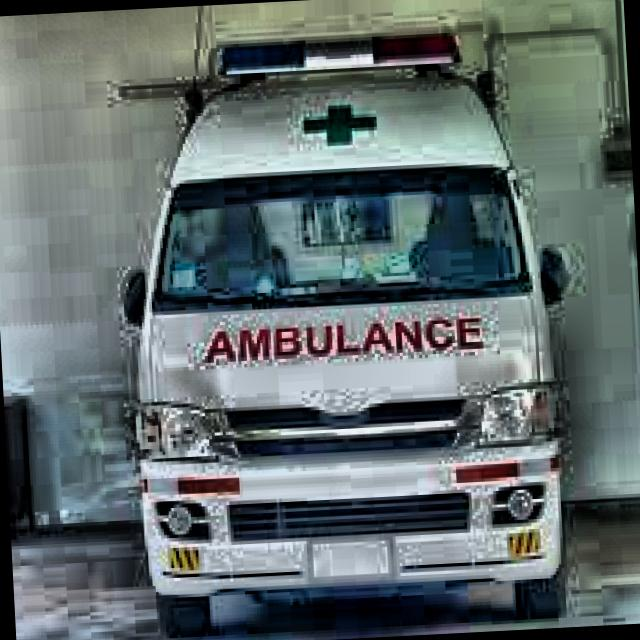Ambulance: (114, 31, 583, 636)
